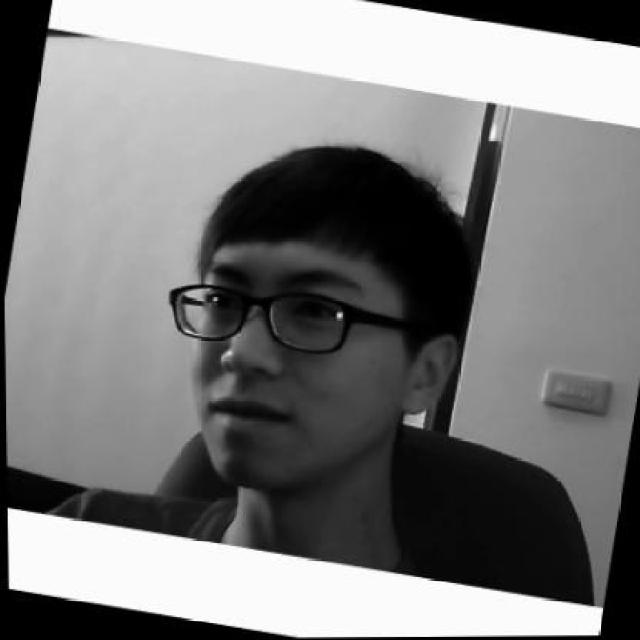attentif: (136, 119, 490, 518)
